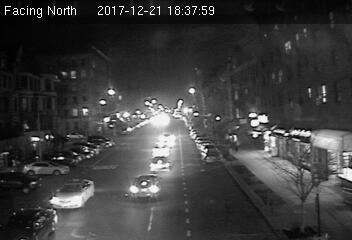car: (51, 177, 95, 210), (129, 172, 160, 202), (149, 155, 172, 173), (152, 143, 172, 156)
